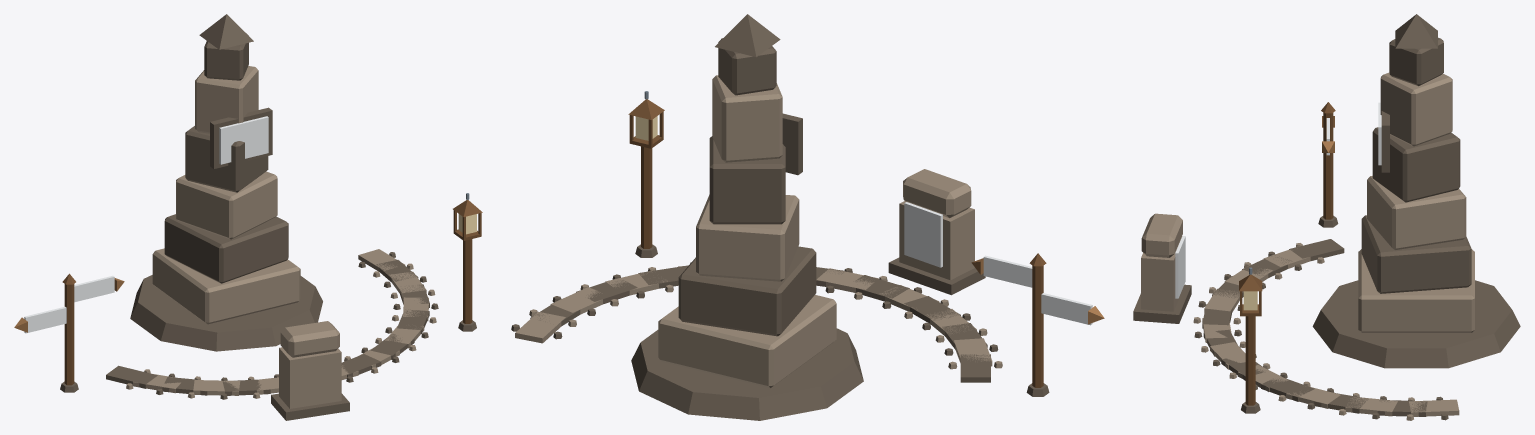
Rendered from AST09.glb.
3 renders of one model, left to right at view 1: azimuth 30°, elevation 25°; view 2: azimuth 150°, elevation 25°; view 3: azimuth 270°, elevation 25°, orthographic. The views are drawn at different scales.
Parts seen in each view (by area): view 1: AST09_Pillar, AST09_Path, AST09_StoneMarker, AST09_LanternPost, AST09_Plaque, AST09_Signpost, AST09_Arrow_1, AST09_Arrow_2; view 2: AST09_Pillar, AST09_Path, AST09_StoneMarker, AST09_LanternPost, AST09_StoneFace, AST09_Signpost, AST09_Arrow_1, AST09_Arrow_2; view 3: AST09_Pillar, AST09_Path, AST09_StoneMarker, AST09_LanternPost, AST09_Signpost, AST09_StoneFace.
Part boxes in pixels (left/top/right/bottom): AST09_Pillar: left=130, top=14, right=322, bottom=351; AST09_Path: left=106, top=249, right=438, bottom=399; AST09_StoneMarker: left=271, top=321, right=349, bottom=420; AST09_LanternPost: left=453, top=193, right=482, bottom=331; AST09_Plaque: left=219, top=116, right=268, bottom=164; AST09_Signpost: left=14, top=273, right=124, bottom=392; AST09_Arrow_1: left=74, top=275, right=114, bottom=302; AST09_Arrow_2: left=24, top=306, right=66, bottom=333; AST09_Pillar: left=631, top=14, right=863, bottom=420; AST09_Path: left=511, top=262, right=1002, bottom=382; AST09_StoneMarker: left=888, top=169, right=985, bottom=295; AST09_LanternPost: left=628, top=91, right=664, bottom=257; AST09_StoneFace: left=904, top=202, right=942, bottom=267; AST09_Signpost: left=971, top=253, right=1104, bottom=396; AST09_Arrow_1: left=983, top=255, right=1032, bottom=287; AST09_Arrow_2: left=1041, top=293, right=1092, bottom=325; AST09_Pillar: left=1312, top=14, right=1520, bottom=368; AST09_Path: left=1193, top=239, right=1459, bottom=420; AST09_StoneMarker: left=1133, top=213, right=1191, bottom=323; AST09_LanternPost: left=1239, top=267, right=1262, bottom=413; AST09_Signpost: left=1318, top=102, right=1338, bottom=227; AST09_StoneFace: left=1175, top=236, right=1185, bottom=298.
Size of the model in its own units: 6.41 by 4.14 by 4.65.
6 materials, 5 textured.
